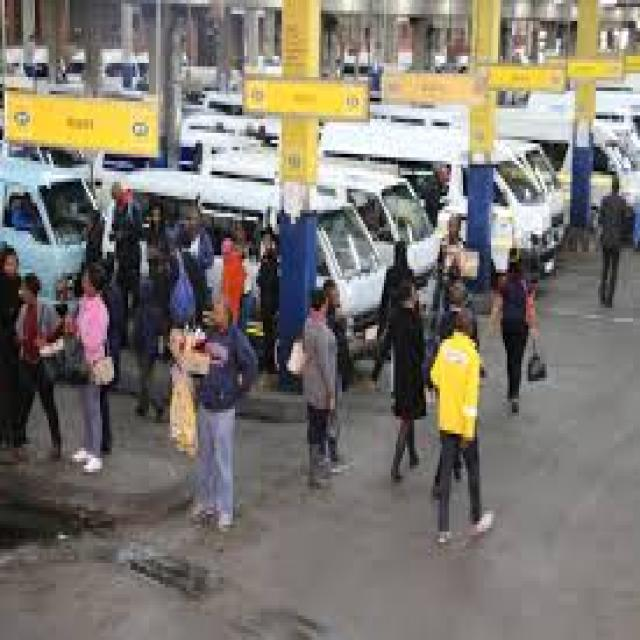Pedestrians: (179, 297, 261, 528), (428, 311, 505, 542)
